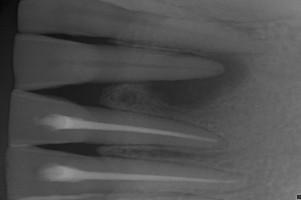Furcation Involvement: (146, 50, 253, 108)
